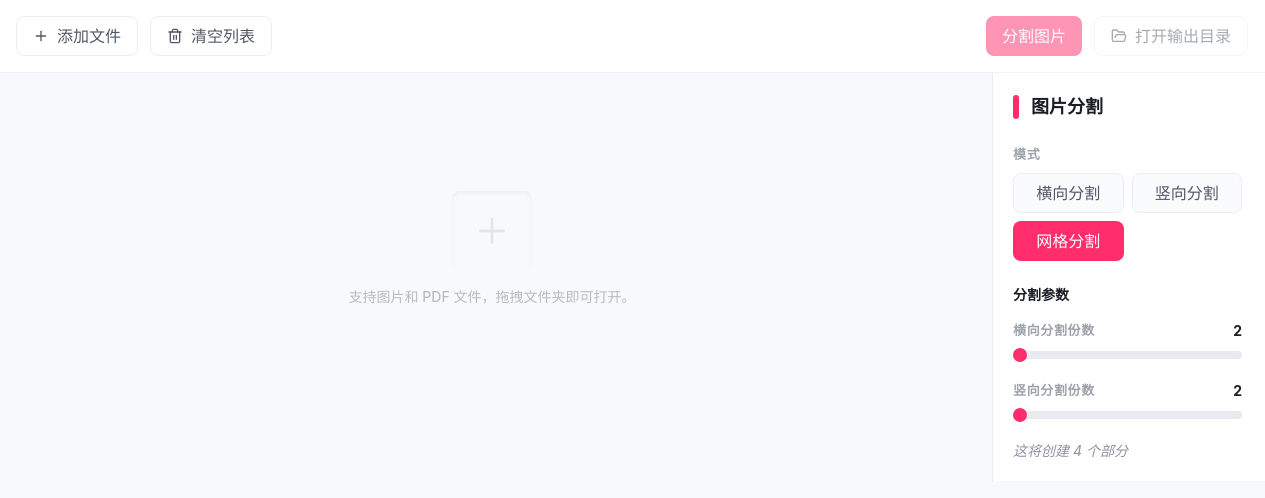
SplitImagePage › starts horizontal splitting with selected grid settings
Click the button "添加文件" at (77, 36), box [16,16,138,56]
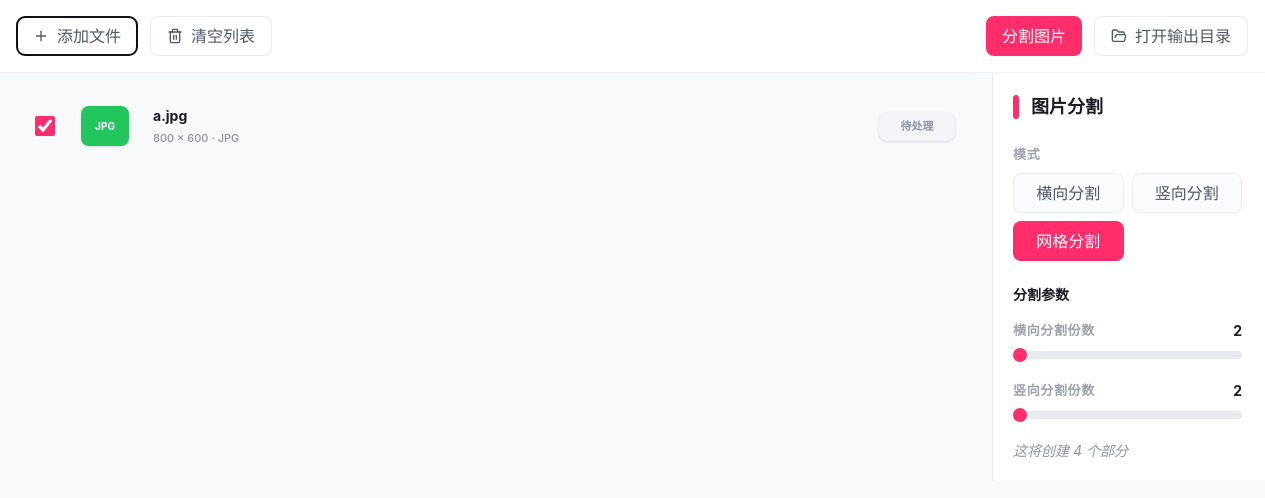
Now the text "a.jpg" is shown, box [153,107,187,124]
Click the button "横向分割" at (1068, 193), box [1013,173,1124,213]
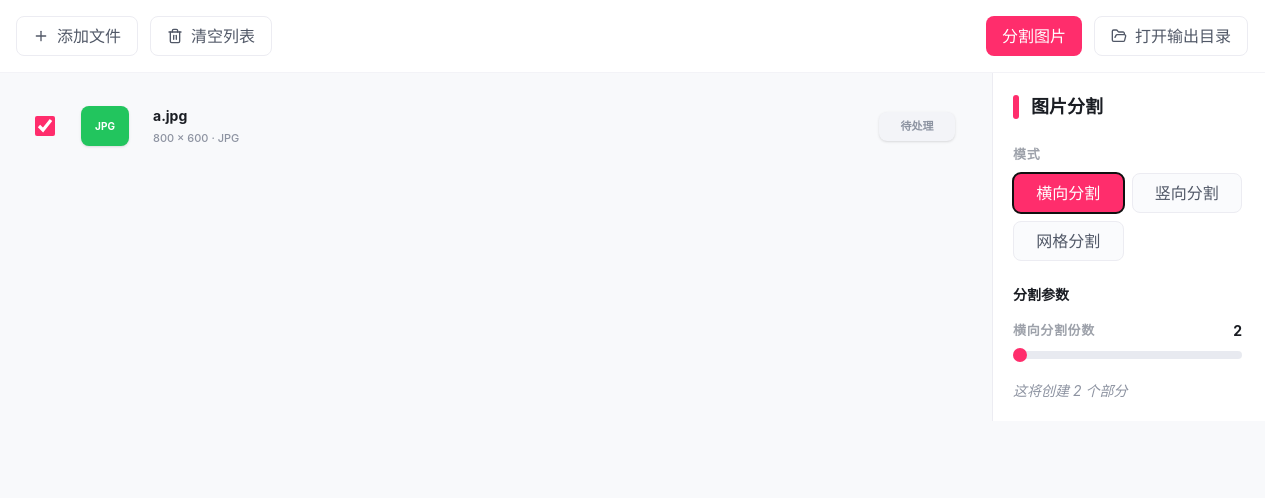
Set the slider labelled "横向分割份数 2" to "3" at (1048, 355), box [1013,351,1242,359]
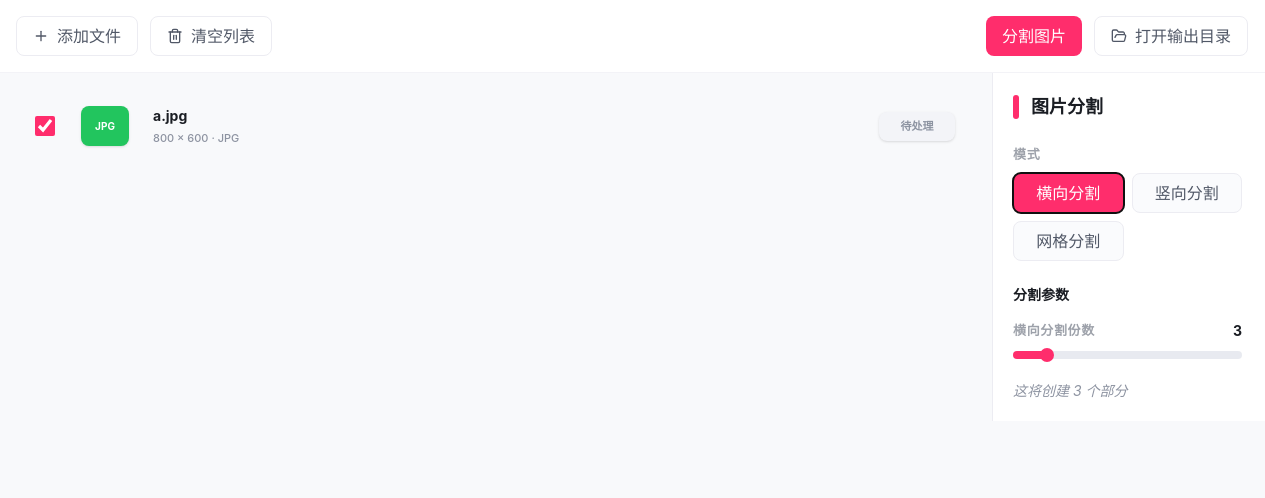
Click the button "分割图片" at (1034, 36), box [986,16,1082,56]
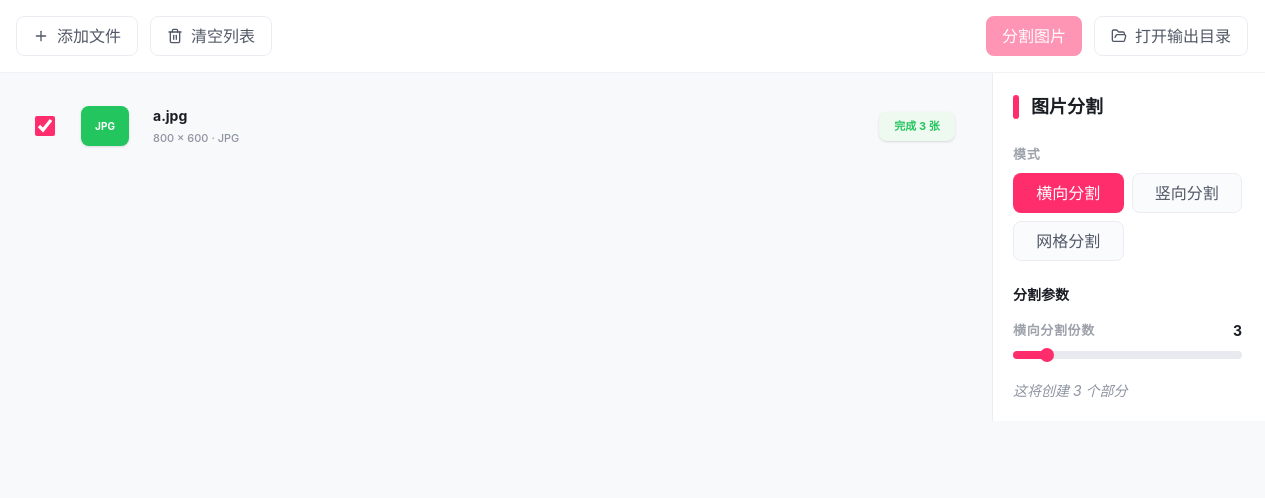
Now the text "完成 3 张" is shown, box [879,112,955,140]
